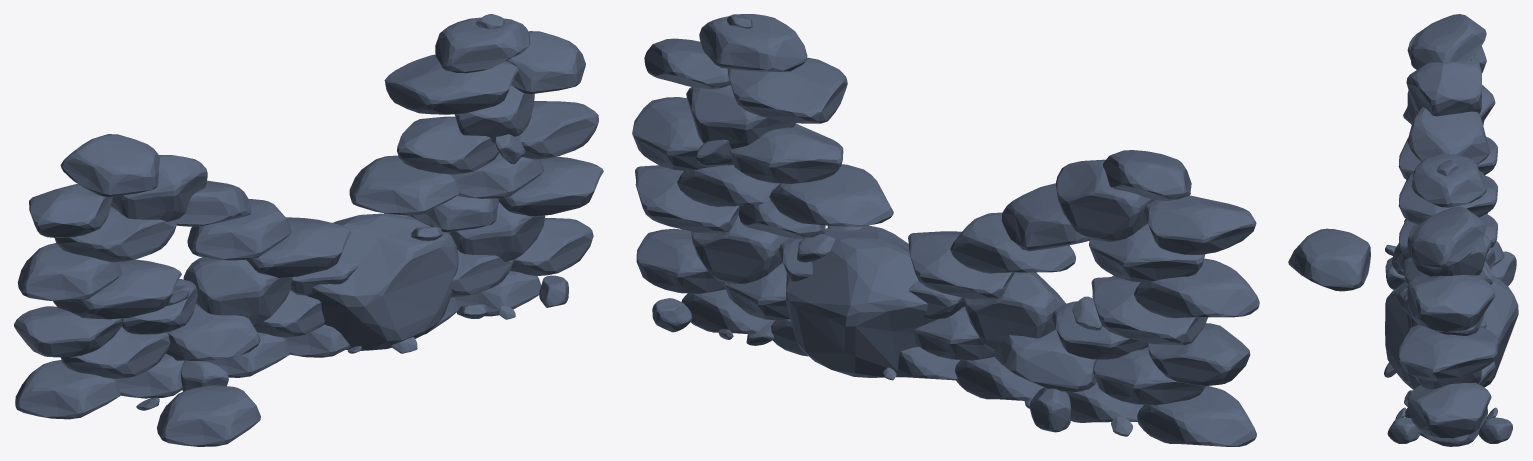
Rendered from Vampire_Assets_Wall3.fbx.
3 views of the same model, side by side, from view 1: azimuth 30°, elevation 25°; view 2: azimuth 150°, elevation 25°; view 3: azimuth 270°, elevation 25° (orthographic). The views are drawn at different scales.
Visible parts, largest first — view 1: Rock.045; view 2: Rock.045; view 3: Rock.045.
Boxes of the visible parts, <box> form: Rock.045: <box>14,14,603,446</box>; Rock.045: <box>632,14,1259,446</box>; Rock.045: <box>1288,14,1518,446</box>.
Bounding box in the file's own units: 203377 × 97574 × 74945.
